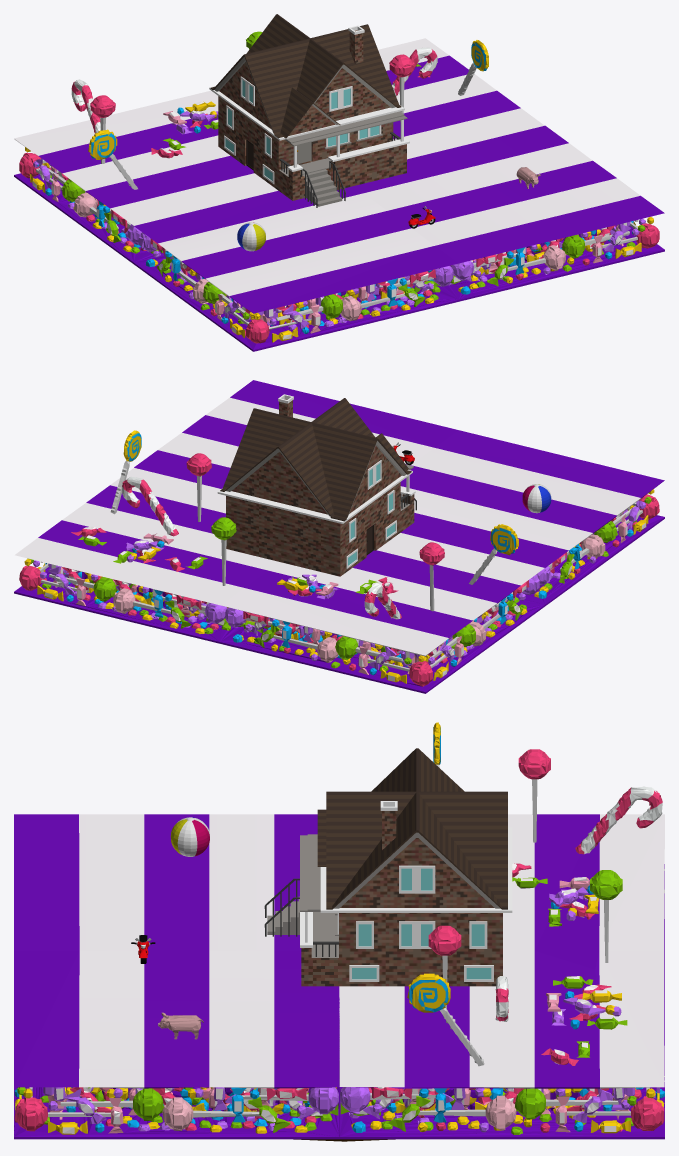
3 renders of one model, top to bottom at view 1: azimuth 30°, elevation 25°; view 2: azimuth 150°, elevation 25°; view 3: azimuth 270°, elevation 25°, orthographic. The views are drawn at different scales.
Parts seen in each view (by area): view 1: TERRAIN_CANDY, Cube.117, OBJRANDOM_BEACHBALL; view 2: TERRAIN_CANDY, Cube.117, OBJRANDOM_BEACHBALL; view 3: TERRAIN_CANDY, Cube.117, OBJRANDOM_BEACHBALL, ANIMAL_CERDO.
Boxes of the visible parts, x1,y1,x2,y2 form: TERRAIN_CANDY: [14, 31, 664, 351]; Cube.117: [209, 14, 409, 207]; OBJRANDOM_BEACHBALL: [237, 222, 265, 251]; TERRAIN_CANDY: [14, 380, 664, 693]; Cube.117: [217, 394, 416, 576]; OBJRANDOM_BEACHBALL: [522, 484, 551, 513]; TERRAIN_CANDY: [14, 722, 664, 1139]; Cube.117: [264, 748, 512, 986]; OBJRANDOM_BEACHBALL: [170, 817, 209, 856]; ANIMAL_CERDO: [158, 1012, 203, 1039].
Size of the model in its own units: 4059 by 1650 by 4000.
31 materials, 3 textured.
